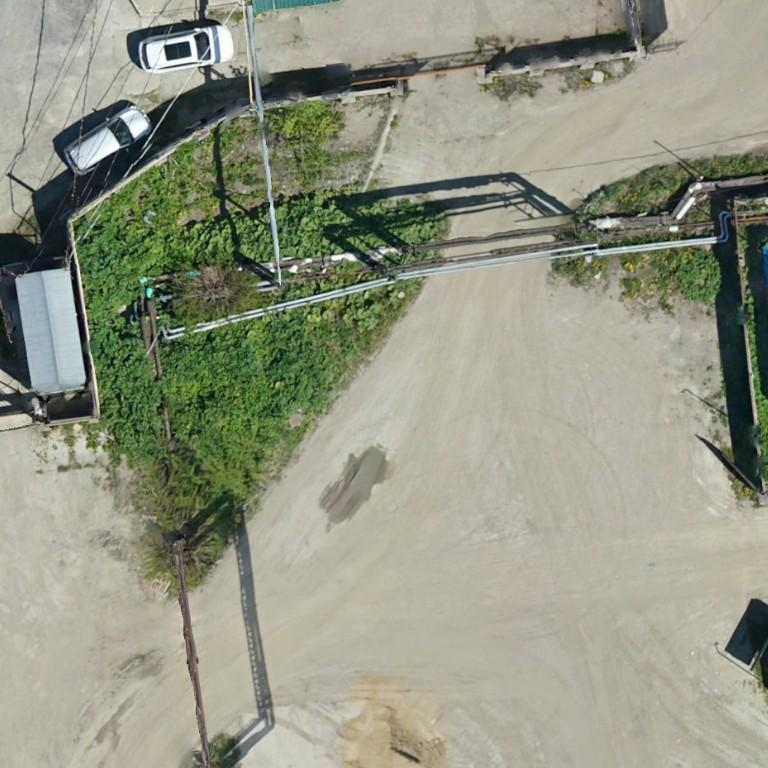hogweed: (160, 318, 330, 477), (78, 219, 160, 452), (677, 251, 728, 296)
